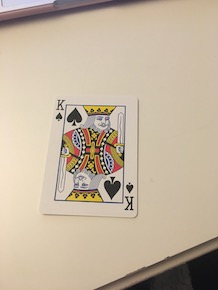KingOfSpades: (39, 92, 144, 221)
